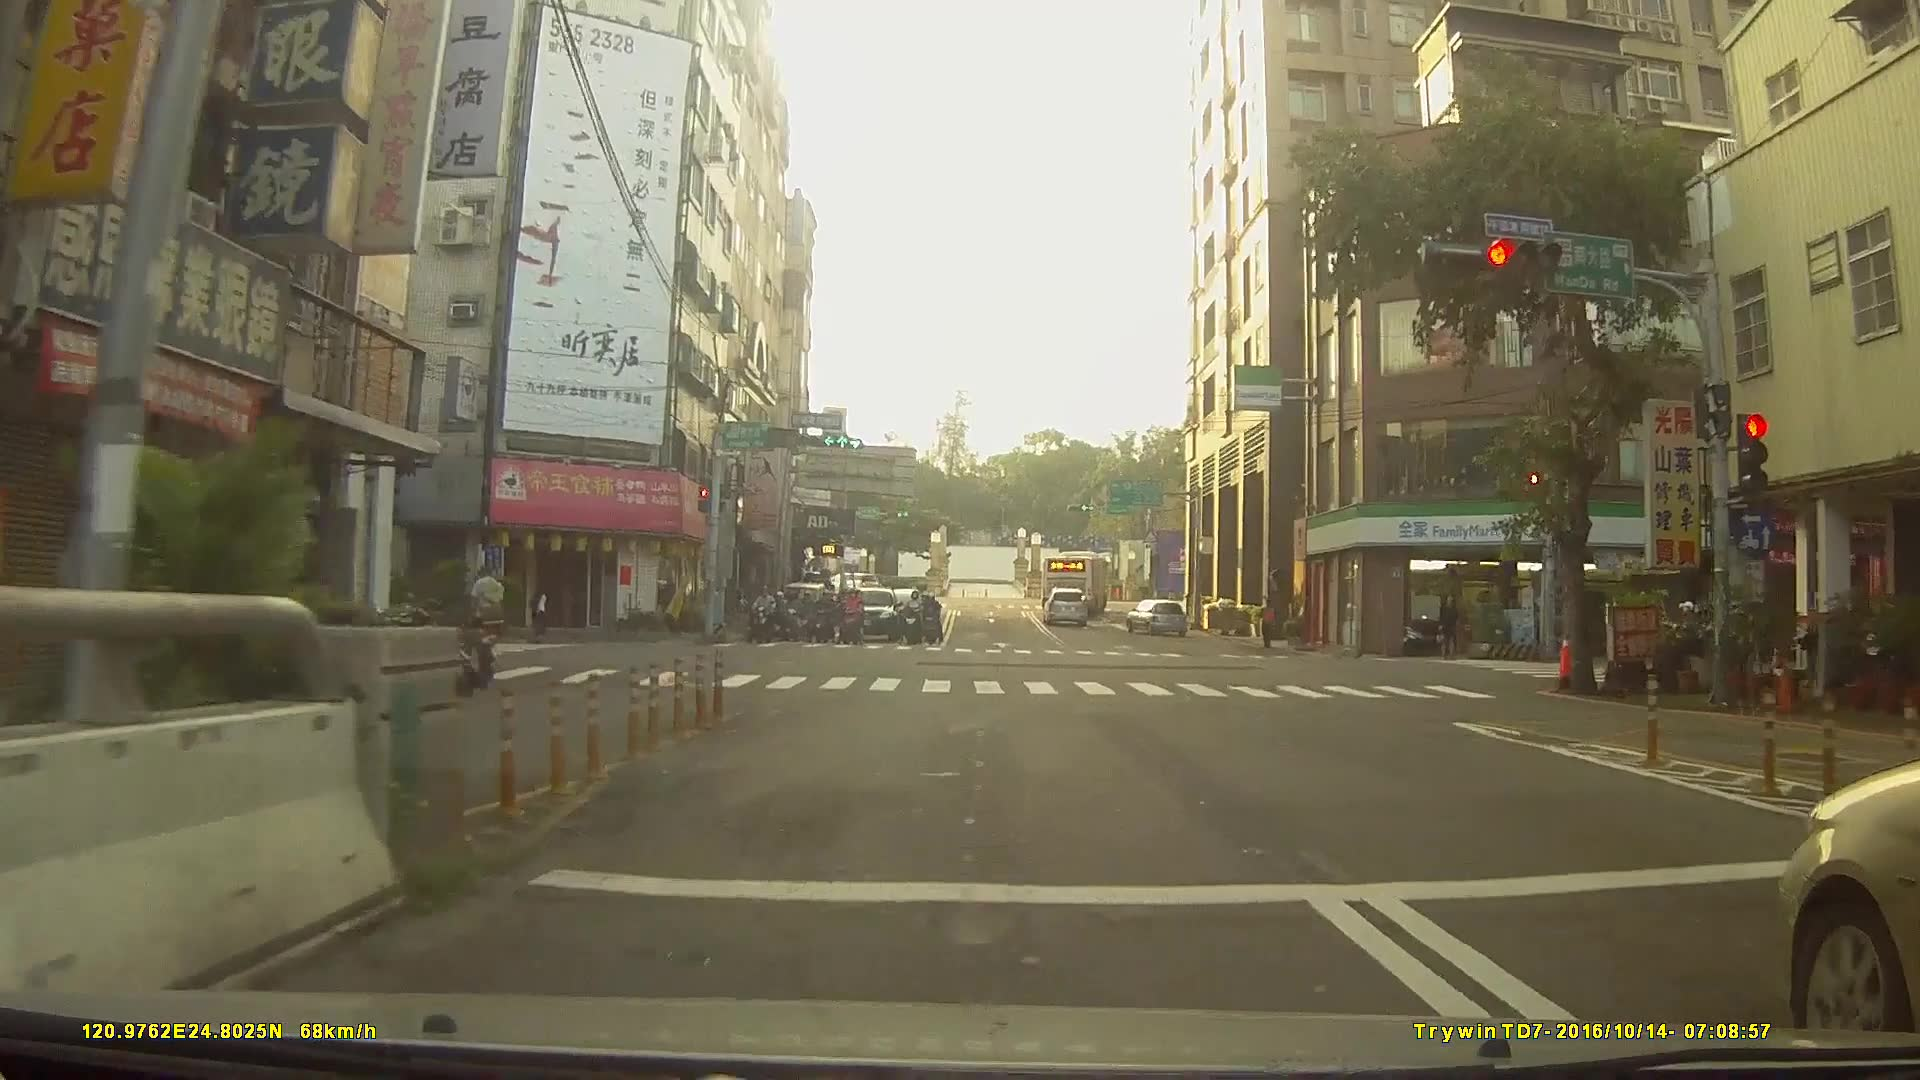pedestrian: (465, 562, 512, 665), (1434, 589, 1463, 660), (534, 583, 554, 644), (1260, 597, 1280, 651)
rider: (747, 584, 778, 647), (835, 589, 865, 648), (781, 590, 807, 643), (814, 587, 838, 646), (901, 588, 924, 645), (920, 600, 942, 653)
vehicle: (1040, 546, 1113, 615), (839, 584, 901, 645), (1123, 595, 1187, 635), (1041, 587, 1092, 625), (825, 569, 880, 595)
